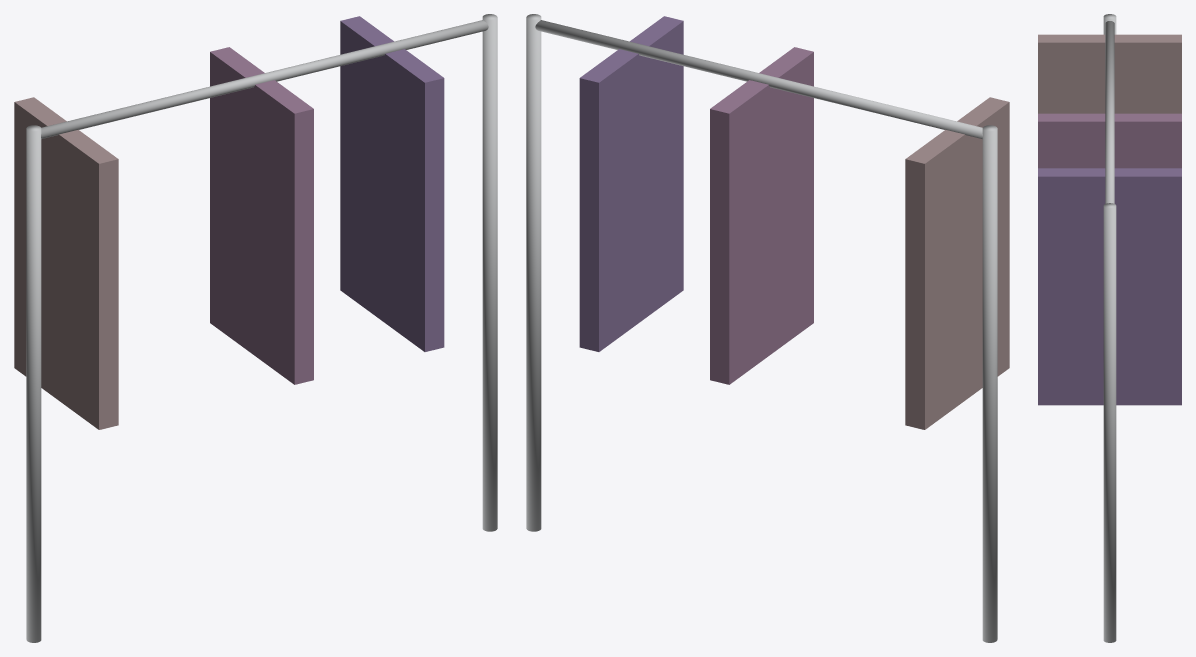
Rendered from clothes_rack.glb.
3 renders of one model, left to right at view 1: azimuth 30°, elevation 25°; view 2: azimuth 150°, elevation 25°; view 3: azimuth 270°, elevation 25°, orthographic. The views are drawn at different scales.
Parts seen in each view (by area): view 1: box.002, box.001, box, metal; view 2: box.002, box.001, box, metal; view 3: box.002, box, metal, box.001.
Boxes of the visible parts, x1,y1,x2,y2 form: box.002: (340,16,444,351); box.001: (210,47,313,384); box: (14,97,118,429); metal: (26,14,497,642); box.002: (579,16,683,351); box.001: (710,47,813,384); box: (905,97,1009,429); metal: (526,14,997,642); box.002: (1038,168,1181,405); box: (1038,34,1181,113); metal: (1103,14,1116,642); box.001: (1038,113,1181,168).
Size of the model in its own units: 1.44 by 1.5 by 0.45.
